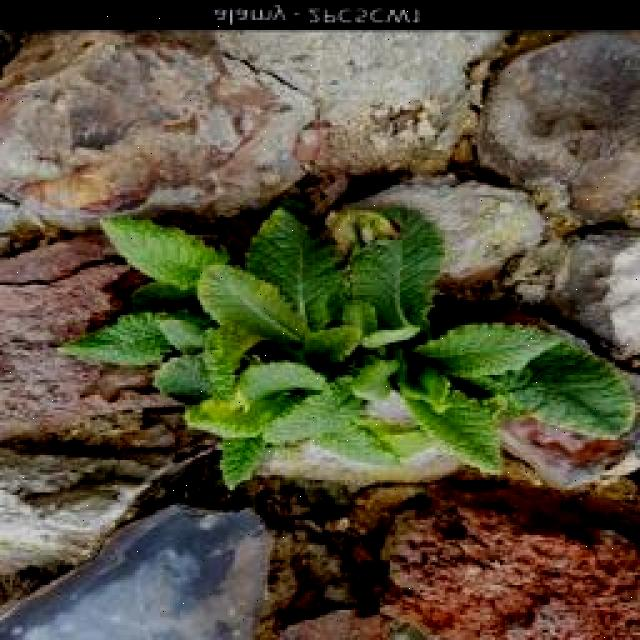crack: (218, 50, 309, 100)
dampens: (470, 33, 640, 374)
vegetation: (56, 199, 635, 492)
